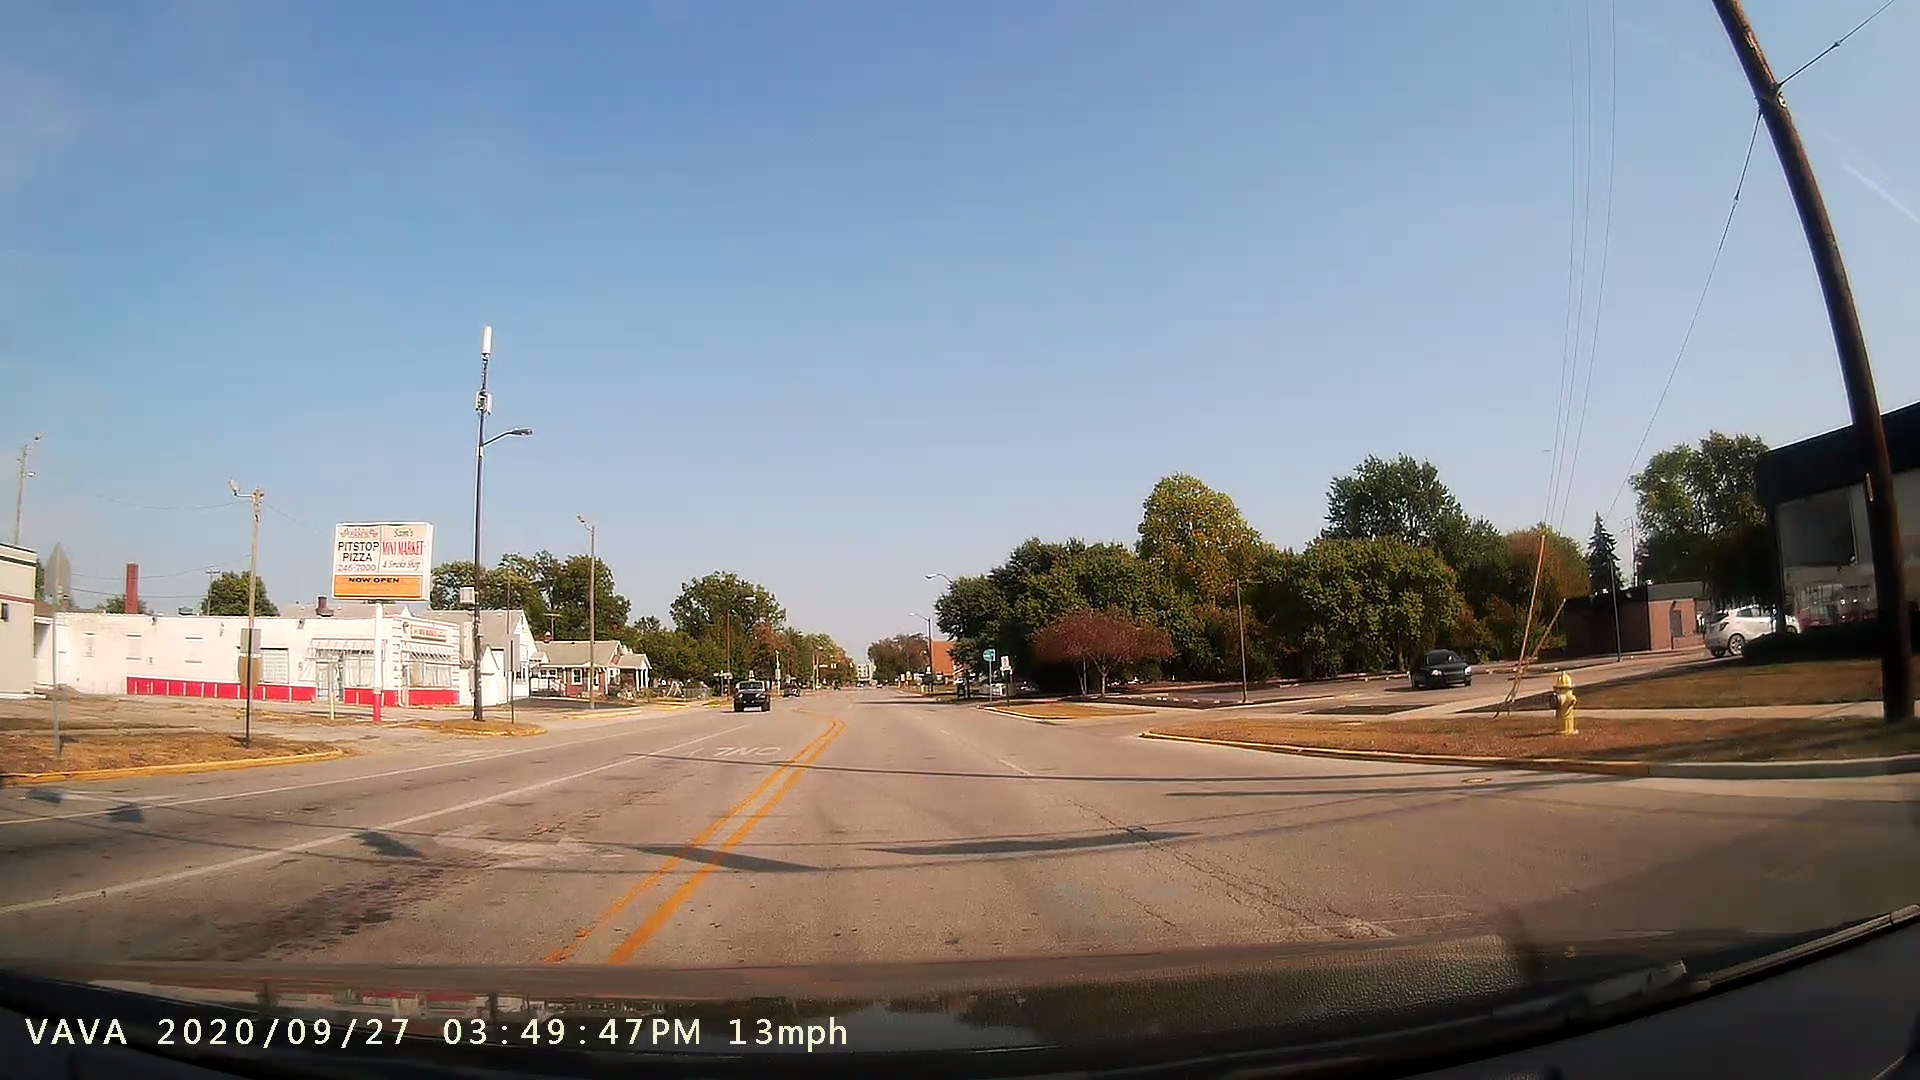fire_hydrant: (1528, 665, 1593, 742)
